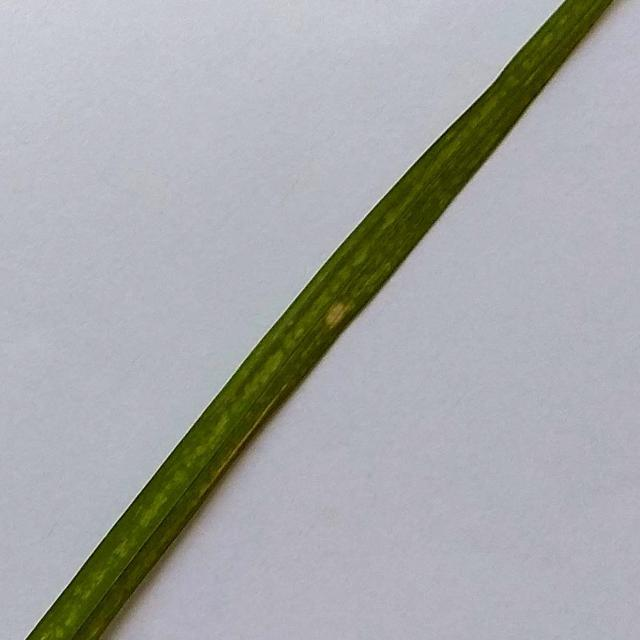Rice_Blast: (317, 291, 358, 336)
